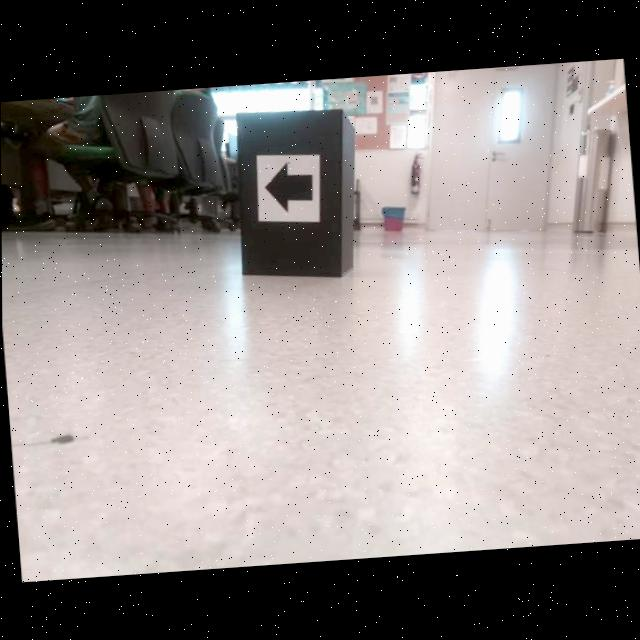LEFT: (264, 161, 314, 214)
